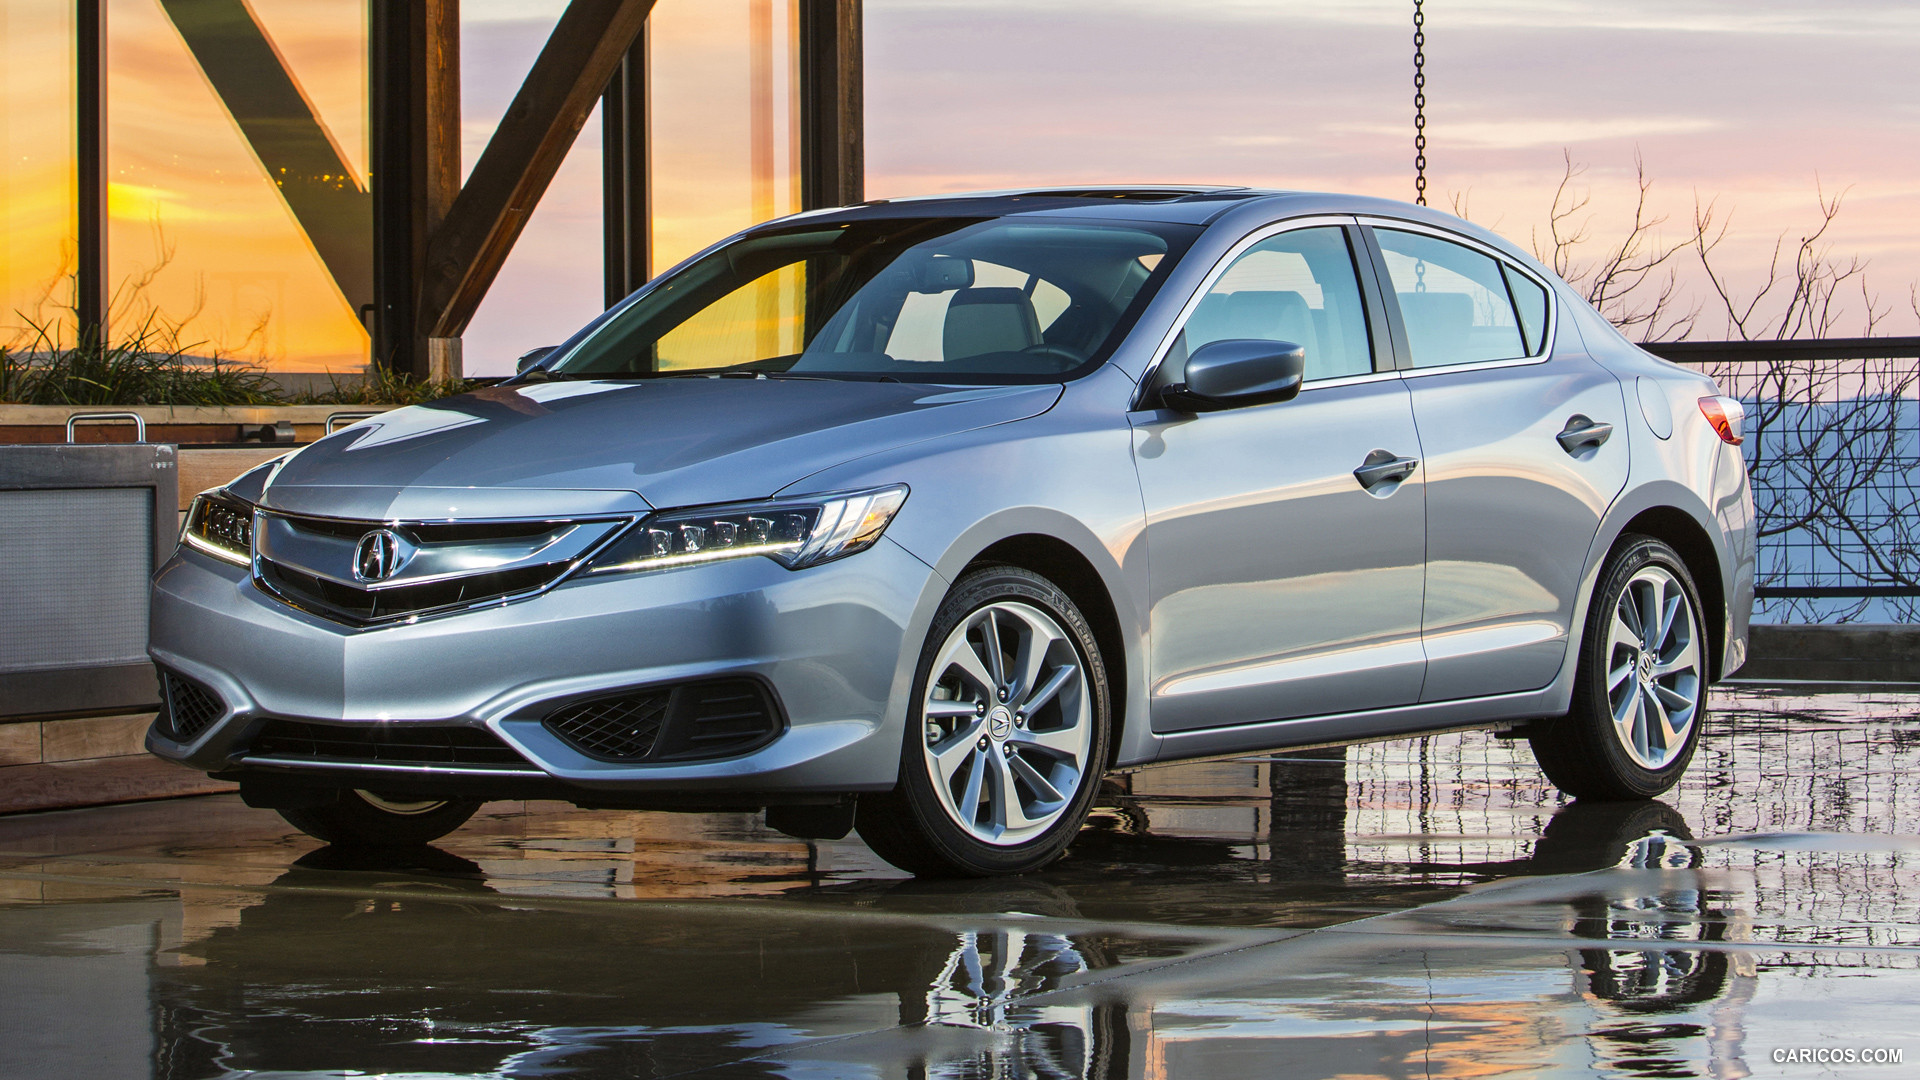Fog Lamp & Scope: (538, 679, 793, 761)
Front: (138, 393, 1054, 782)
Front Bumper: (145, 632, 918, 781)
Grill: (251, 514, 605, 629)
Headlight: (578, 484, 905, 578)
